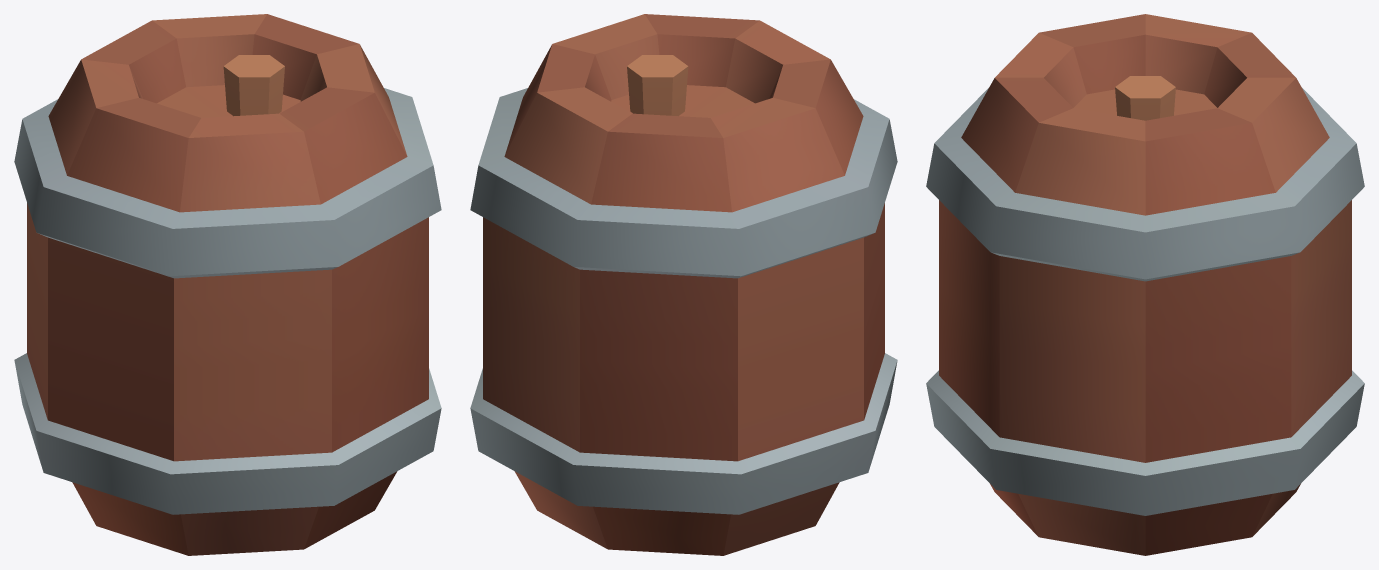
Rendered from barrel.glb.
3 views of the same model, side by side, from view 1: azimuth 30°, elevation 25°; view 2: azimuth 150°, elevation 25°; view 3: azimuth 270°, elevation 25° (orthographic).
Parts seen in each view (by area): view 1: barrel; view 2: barrel; view 3: barrel.
Part boxes in pixels (x1,y1,x2,y2): barrel: (14, 14, 441, 555); barrel: (470, 14, 897, 555); barrel: (926, 14, 1364, 555).
Bounding box in the file's own units: 0.2015 × 0.2117 × 0.2015.
1 material, 1 textured.
